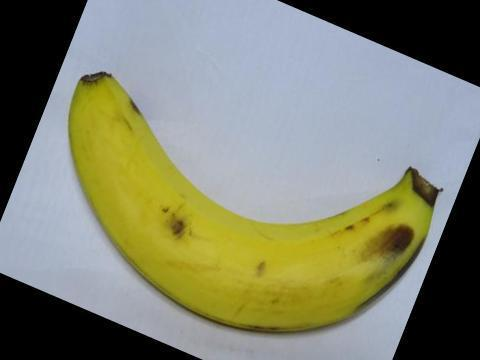freshripe: (53, 60, 443, 345)
